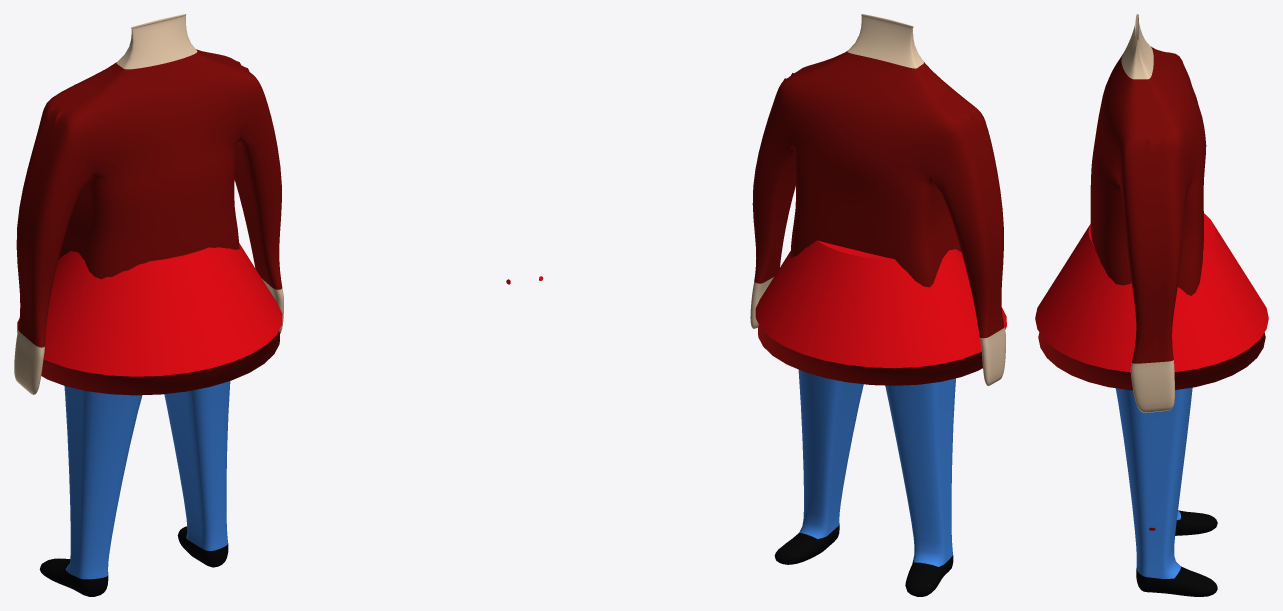
File: Nora_ohne_Kopf (1).fbx
3 renders of one model, left to right at view 1: azimuth 30°, elevation 25°; view 2: azimuth 150°, elevation 25°; view 3: azimuth 270°, elevation 25°, orthographic. The views are drawn at different scales.
Parts seen in each view (by area): view 1: Cube, Circle.010, Circle.005; view 2: Cube, Circle.010, Circle.005; view 3: Cube, Circle.010, Circle.005.
Boxes of the visible parts, x1,y1,x2,y2 form: Cube: (14,14,283,596); Circle.010: (17,243,282,376); Circle.005: (41,331,279,395); Cube: (750,14,1005,596); Circle.010: (755,240,1006,368); Circle.005: (758,325,982,385); Cube: (1090,14,1217,596); Circle.010: (1035,213,1268,372); Circle.005: (1038,333,1265,390).
Bounding box in the file's own units: 93.32 × 104 × 40.98.
